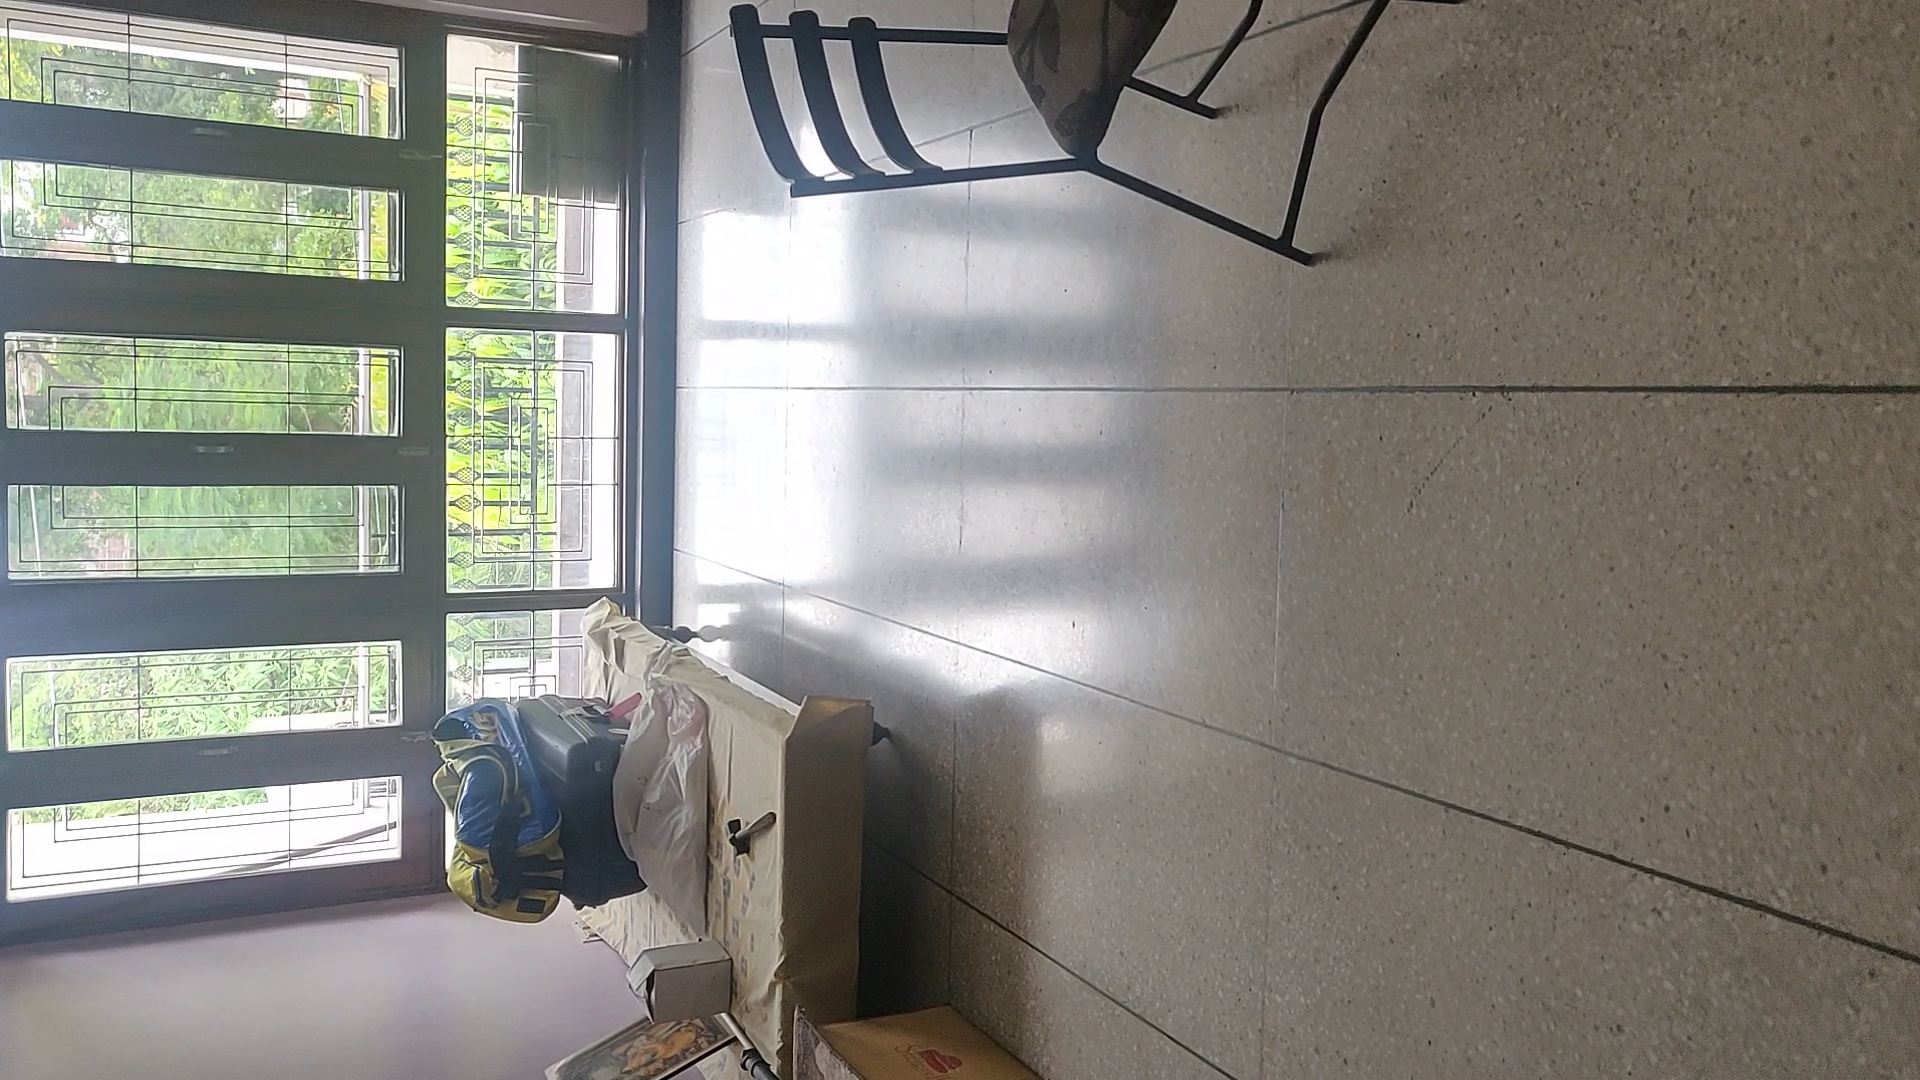hammer: (723, 807, 778, 860)
